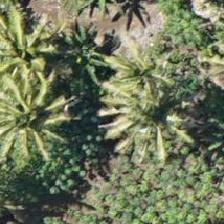coconut_tree: (36, 77, 126, 167), (157, 77, 223, 167), (165, 14, 223, 104)
